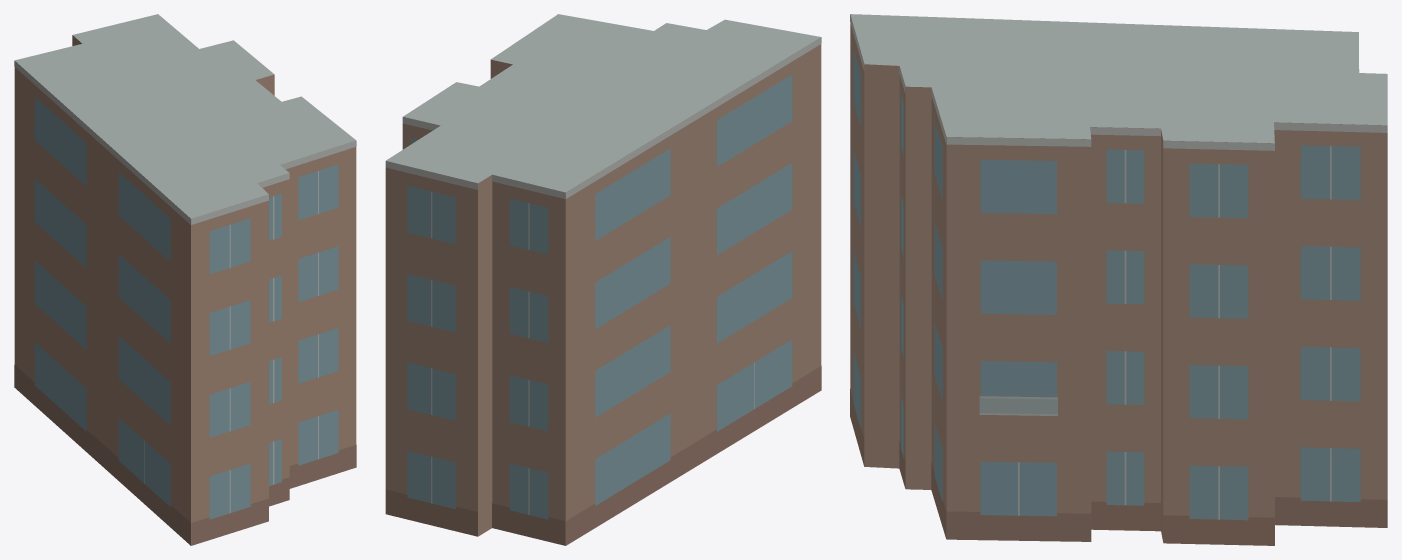
File: survey-upis-32513319.glb
The picture shows the model from 3 angles, left to right: view 1: azimuth 30°, elevation 25°; view 2: azimuth 150°, elevation 25°; view 3: azimuth 270°, elevation 25°; orthographic projection. The views are drawn at different scales.
Parts seen in each view (by area): view 1: survey-upis-32513319.tmp; view 2: survey-upis-32513319.tmp; view 3: survey-upis-32513319.tmp.
Boxes of the visible parts, bbox=[...] form: survey-upis-32513319.tmp: bbox=[14, 14, 356, 545]; survey-upis-32513319.tmp: bbox=[385, 14, 821, 545]; survey-upis-32513319.tmp: bbox=[850, 14, 1387, 545].
Bounding box in the file's own units: 8.82 × 12.8 × 15.49.
